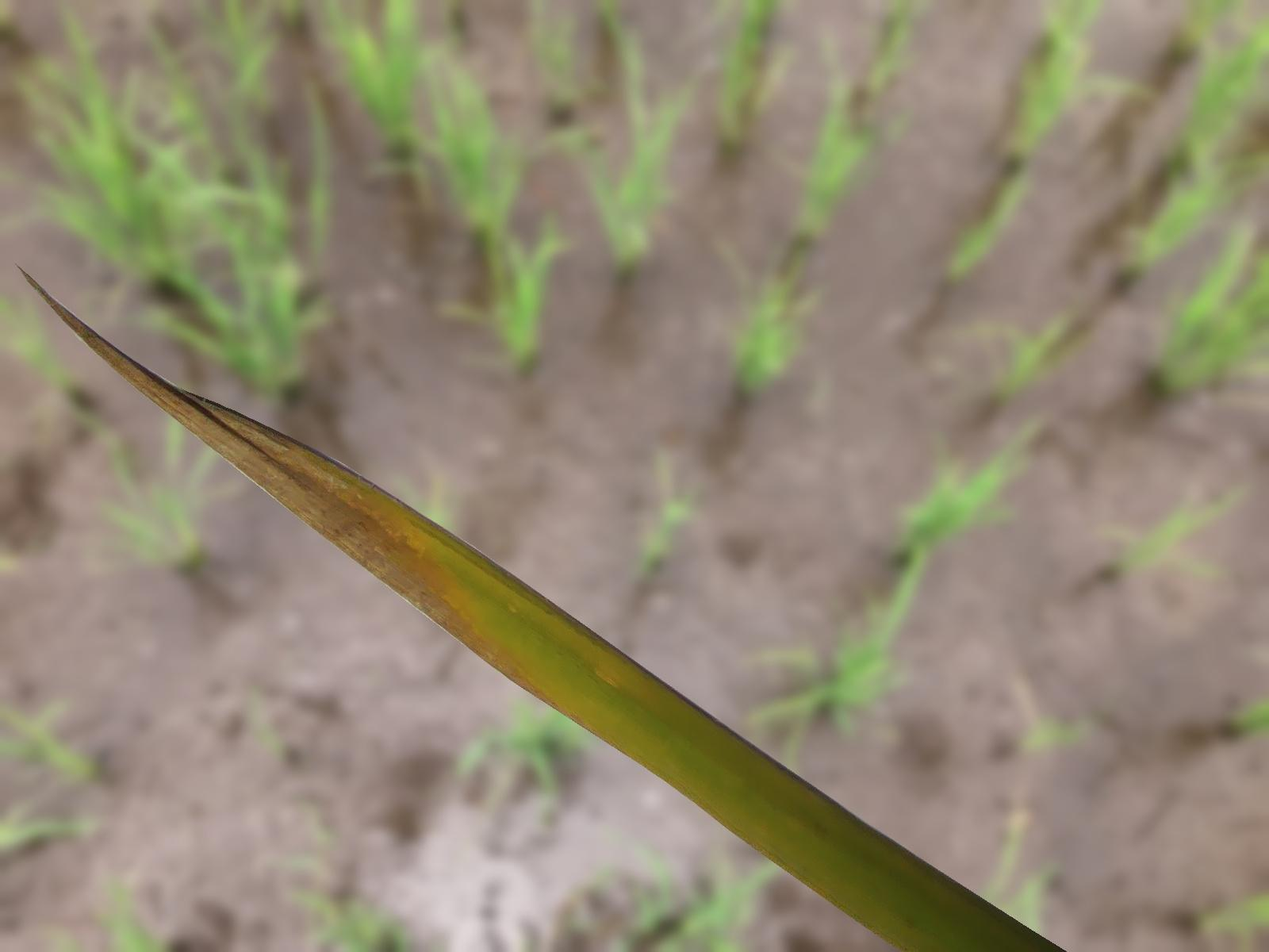BLB: (21, 270, 786, 871)
LEAF: (19, 267, 1064, 951)
